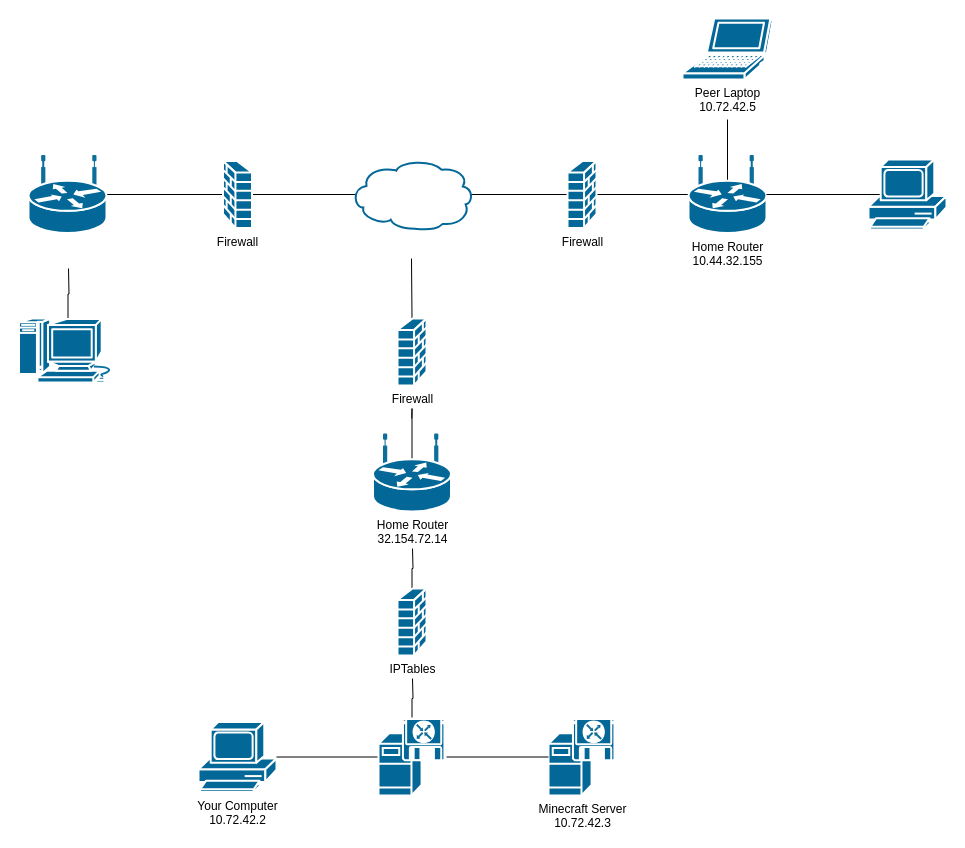
Image size: 965x848. Some labels were removed from this diagram. Each missing label, with the centre of its shape:
"Home Router 55.24.77.250" goes at point 67,194.
"Internet" goes at point 411,194.
"Peer Computer 10.72.42.4" goes at point 907,194.
"Peer Machintosh 10.72.42.5" goes at point 67,350.
"WireGuard Gateway 10.72.42.1" goes at point 411,756.
